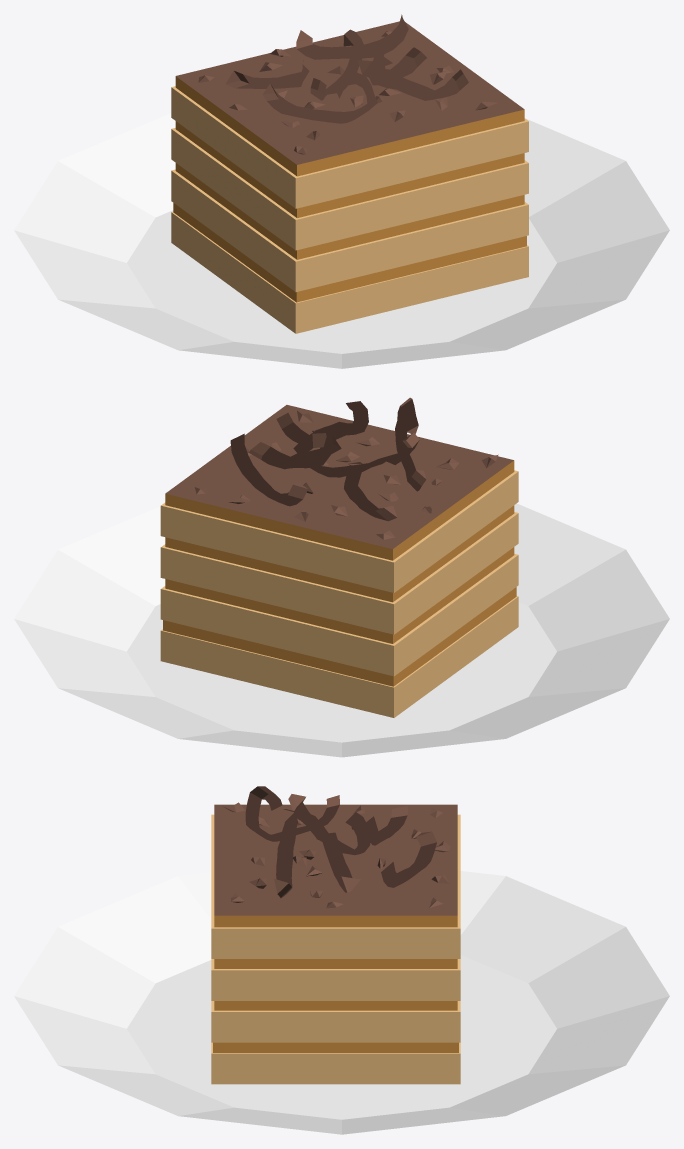
The model's file is tiramisu.glb.
3 views of the same model, one above another, from view 1: azimuth 30°, elevation 25°; view 2: azimuth 150°, elevation 25°; view 3: azimuth 270°, elevation 25° (orthographic).
Parts seen in each view (by area): view 1: Node; view 2: Node; view 3: Node.
Part boxes in pixels (left/top/right/bottom): Node: left=14, top=14, right=669, bottom=368; Node: left=14, top=397, right=669, bottom=757; Node: left=14, top=786, right=669, bottom=1134.
Bounding box in the file's own units: 2 × 0.7682 × 2.
